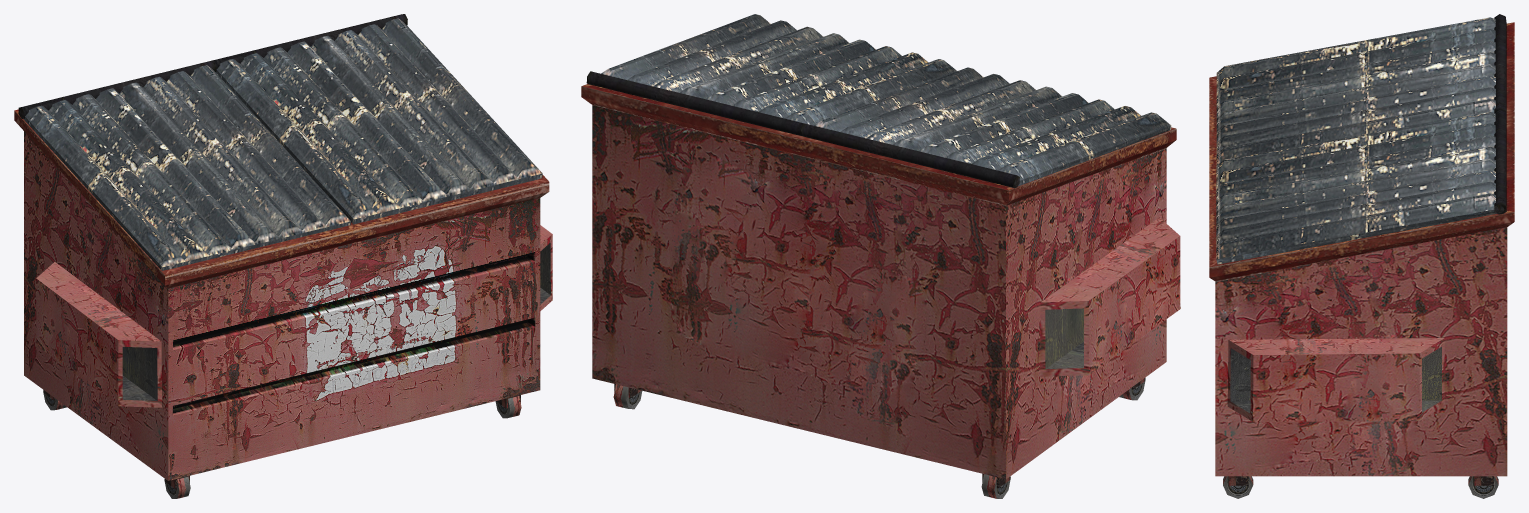
The model's file is dumpster_closed_full.fbx.
The picture shows the model from 3 angles, left to right: view 1: azimuth 30°, elevation 25°; view 2: azimuth 150°, elevation 25°; view 3: azimuth 270°, elevation 25°; orthographic projection. The views are drawn at different scales.
Visible parts, largest first — view 1: bin_base, leftlid, rightlid; view 2: bin_base, leftlid, rightlid; view 3: bin_base, rightlid, leftlid.
Boxes of the visible parts, bbox=[...] form: bin_base: bbox=[14, 109, 552, 498]; leftlid: bbox=[18, 61, 350, 270]; rightlid: bbox=[211, 14, 542, 224]; bin_base: bbox=[581, 84, 1180, 498]; leftlid: bbox=[799, 67, 1171, 188]; rightlid: bbox=[586, 14, 957, 135]; bin_base: bbox=[1209, 22, 1514, 498]; rightlid: bbox=[1216, 109, 1506, 264]; leftlid: bbox=[1216, 14, 1506, 165].
Bounding box in the file's own units: 267 × 178 × 160.
